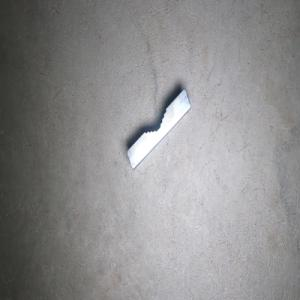ClampPart: (126, 87, 191, 171)
